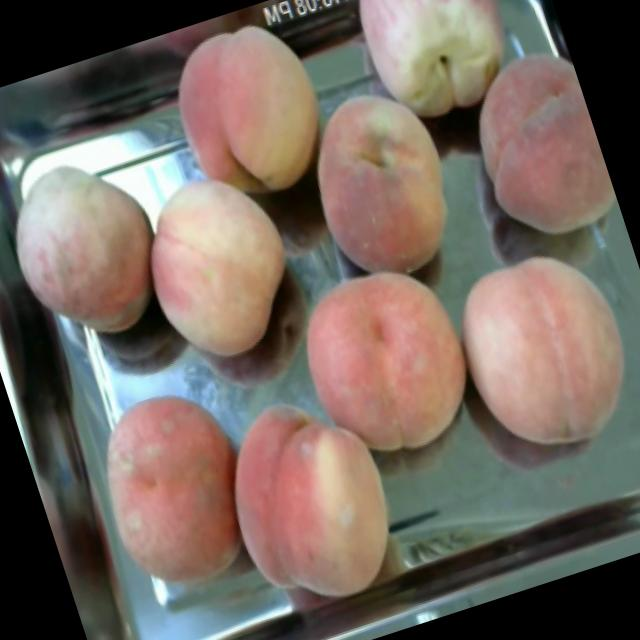Fruit: (192, 370, 426, 628), (269, 237, 498, 485), (430, 224, 640, 476), (67, 368, 280, 612), (282, 64, 484, 302), (143, 0, 354, 223), (119, 154, 324, 383), (438, 28, 626, 268), (0, 133, 183, 366), (340, 0, 544, 144)
